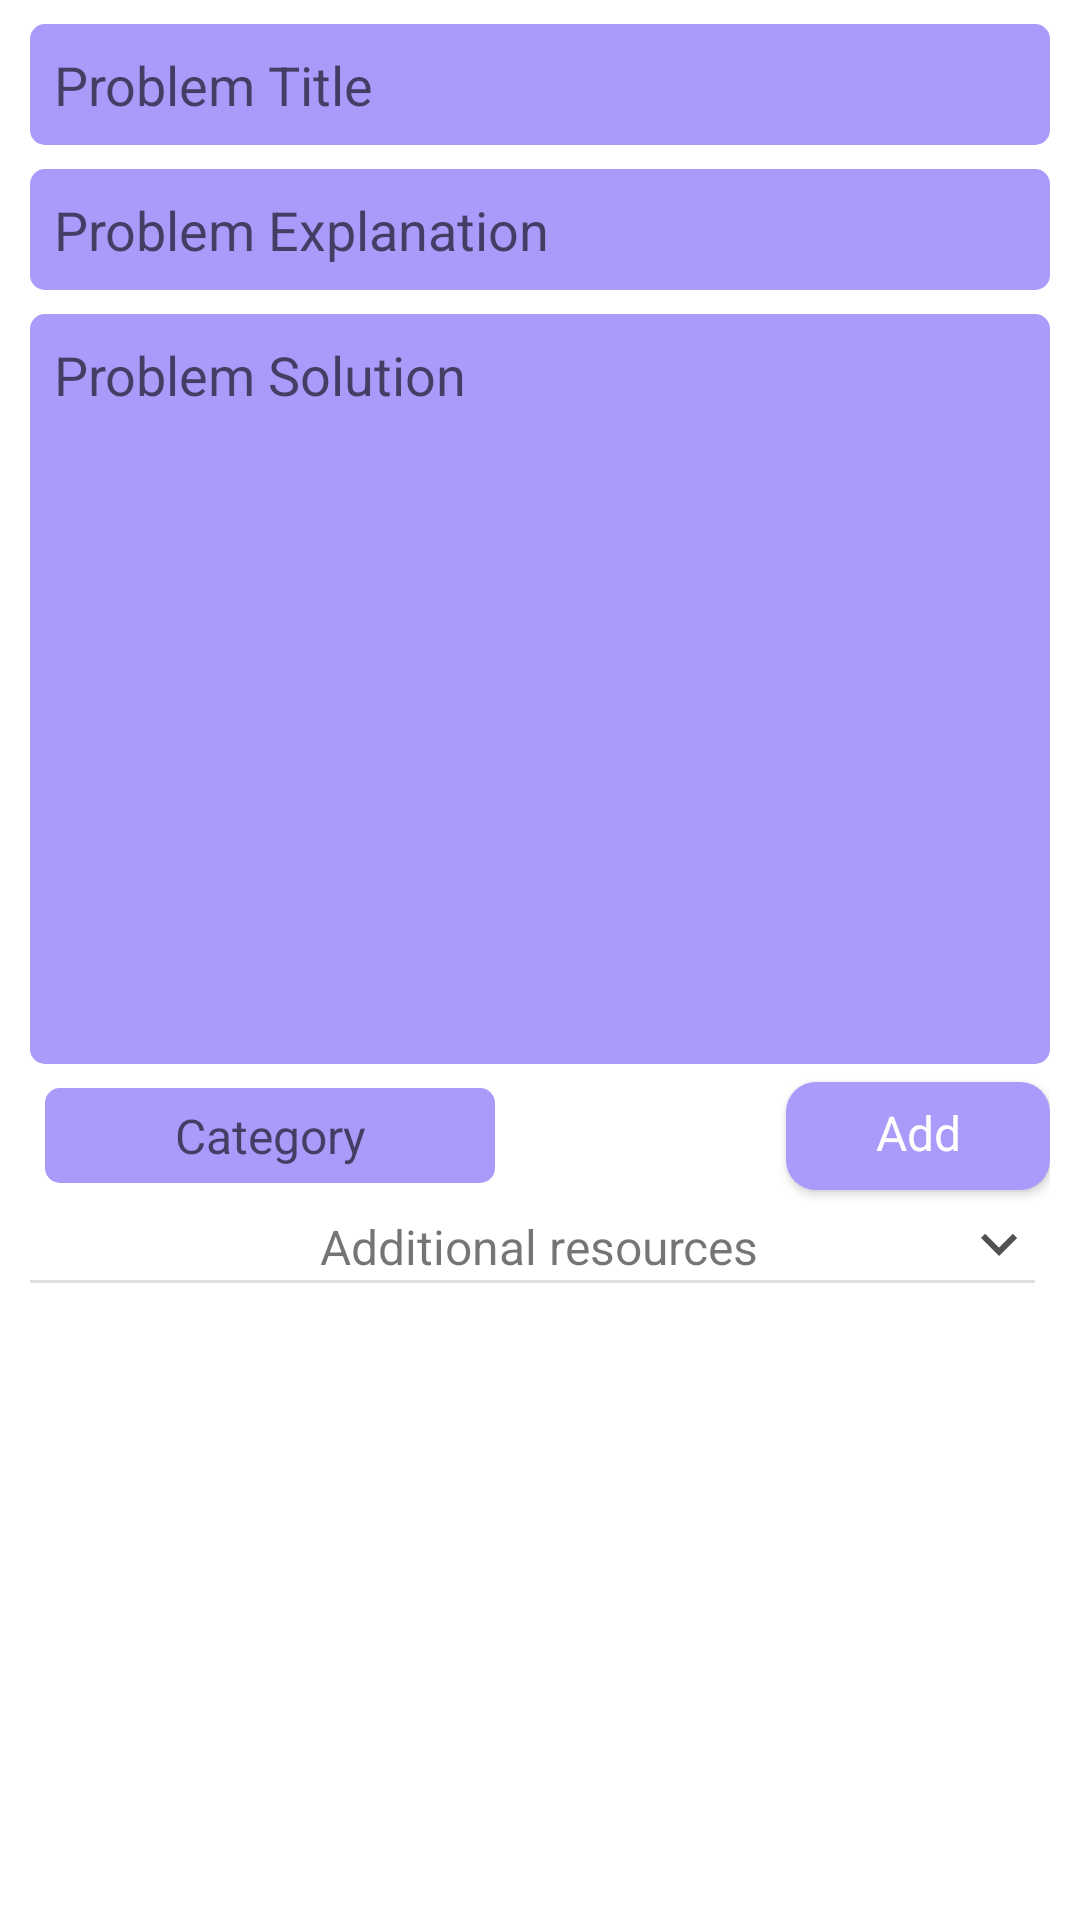

Icons on this 1080x1920 Android screen, each with the point to tap as [x,y]:
keyboard arrow down: [999,1245]
